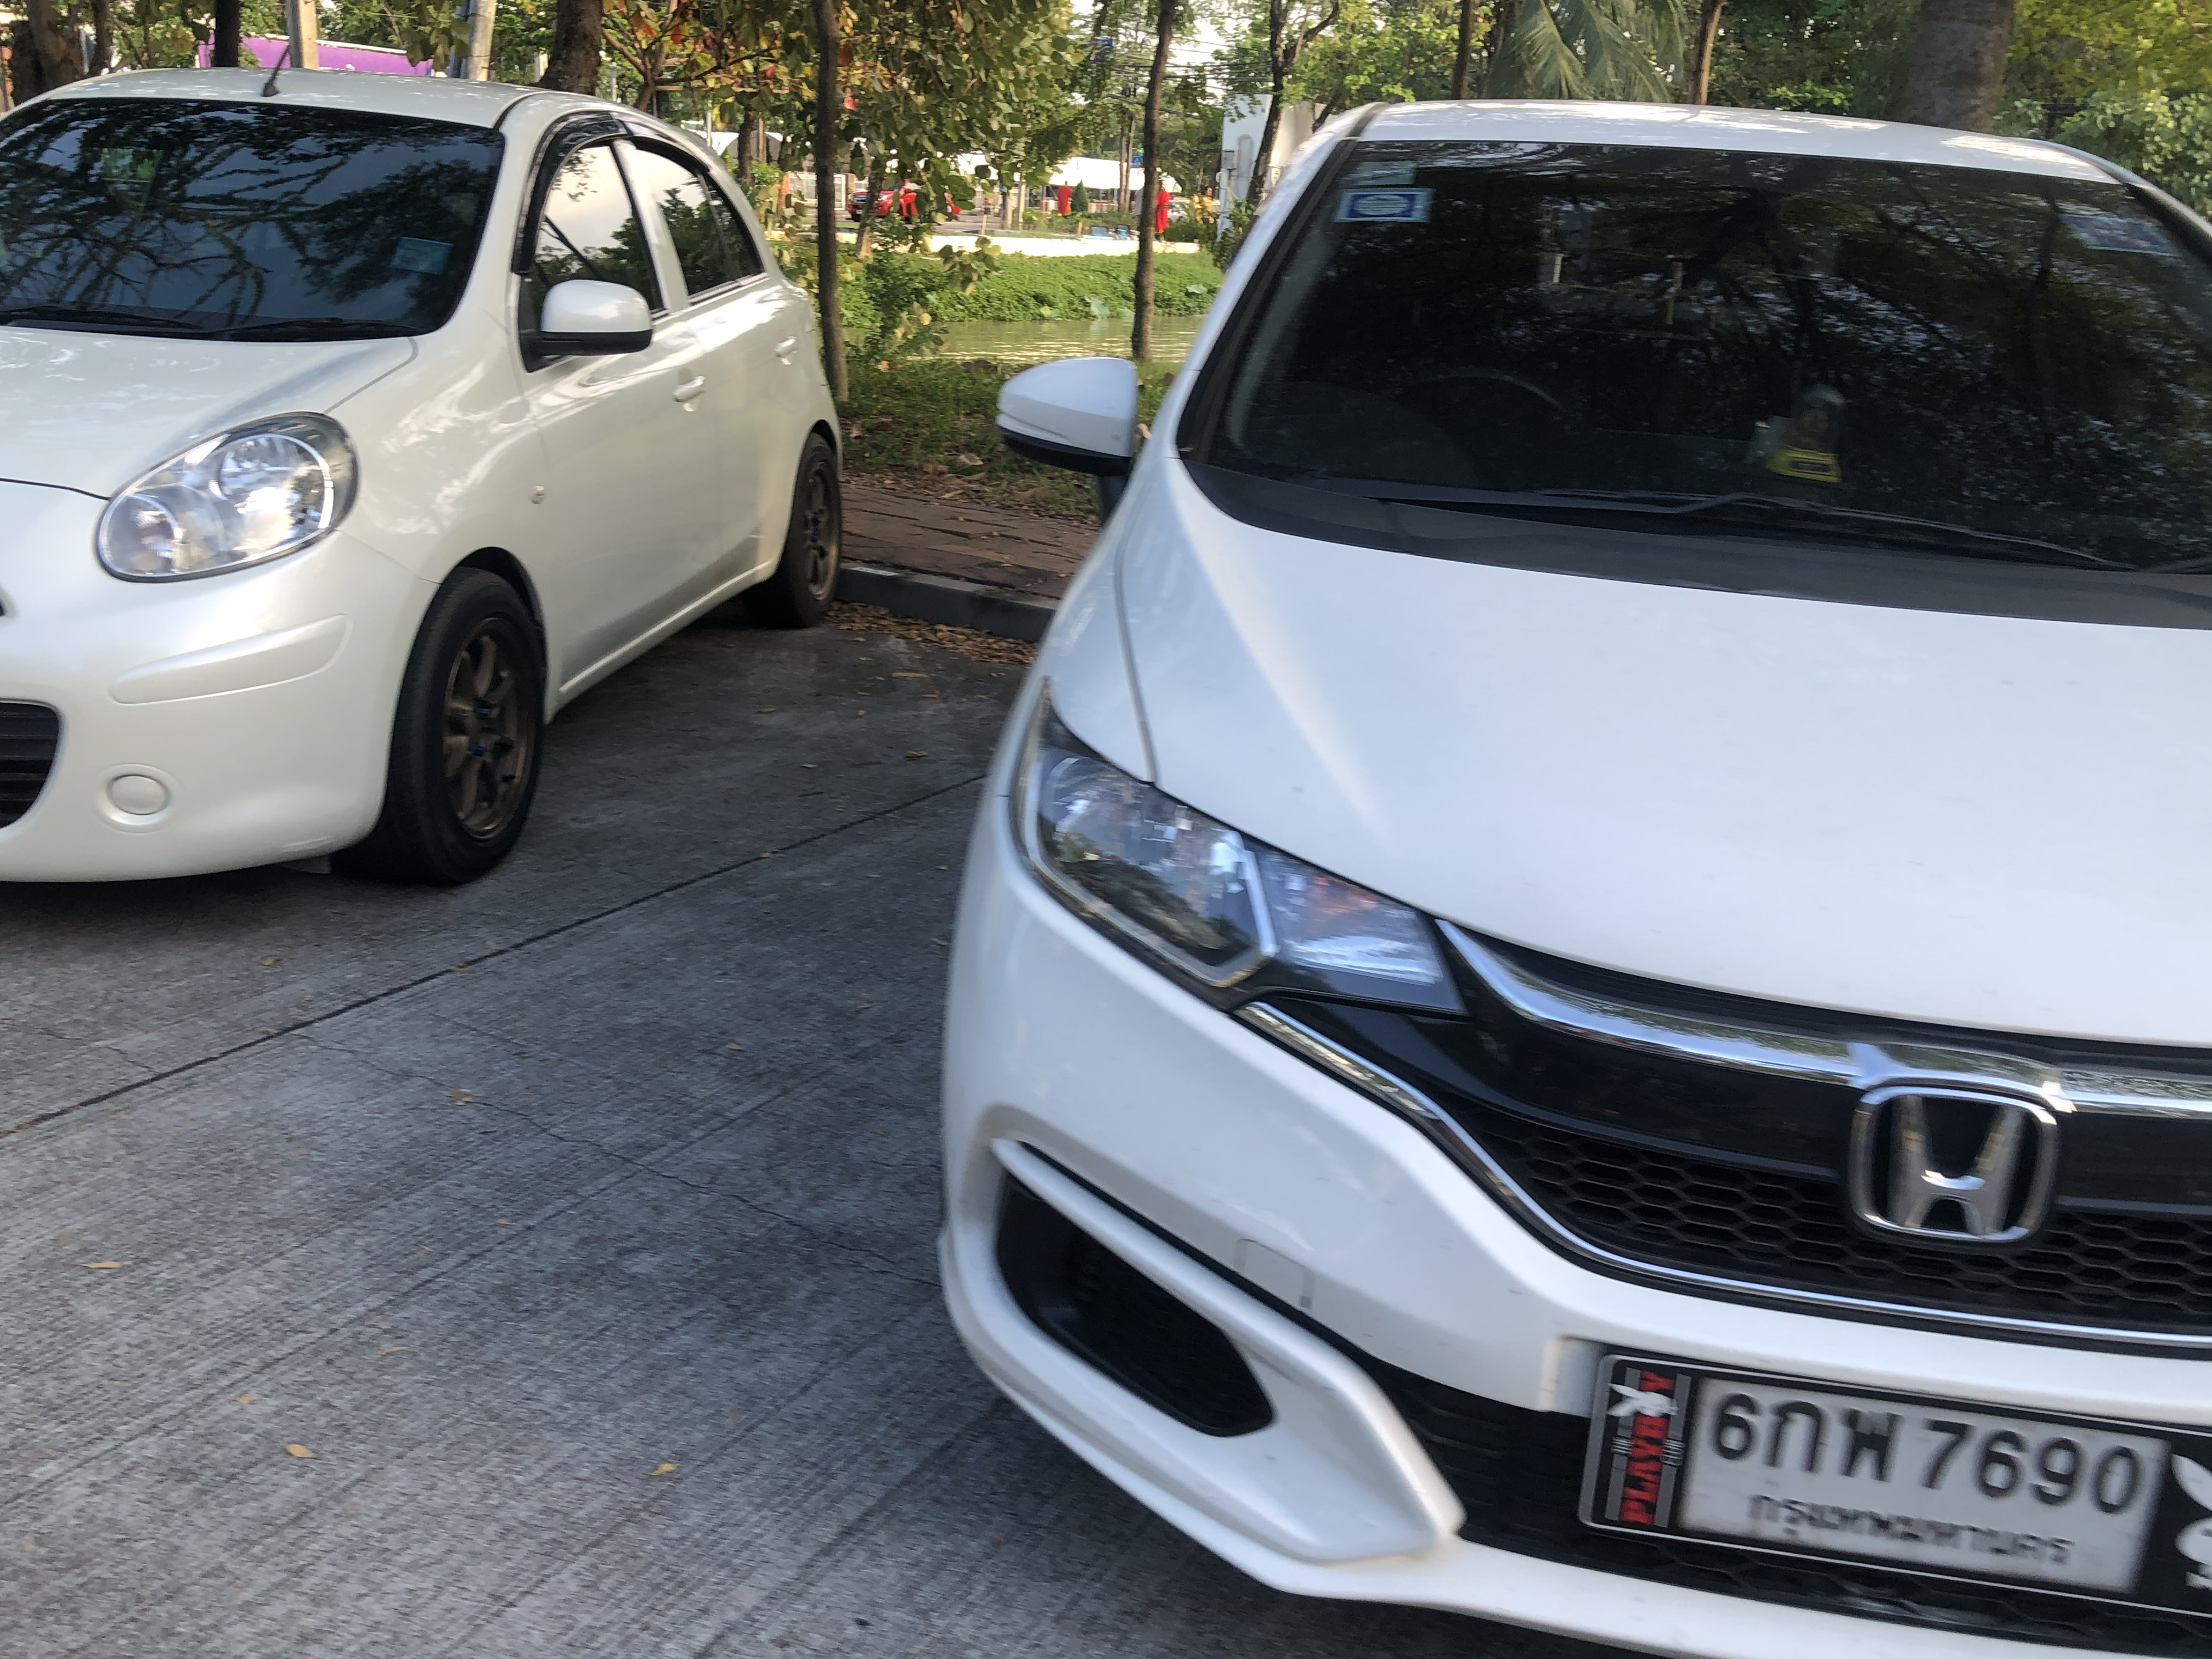in: (1691, 1380, 2153, 1595)
out: (1569, 1338, 2212, 1628)
